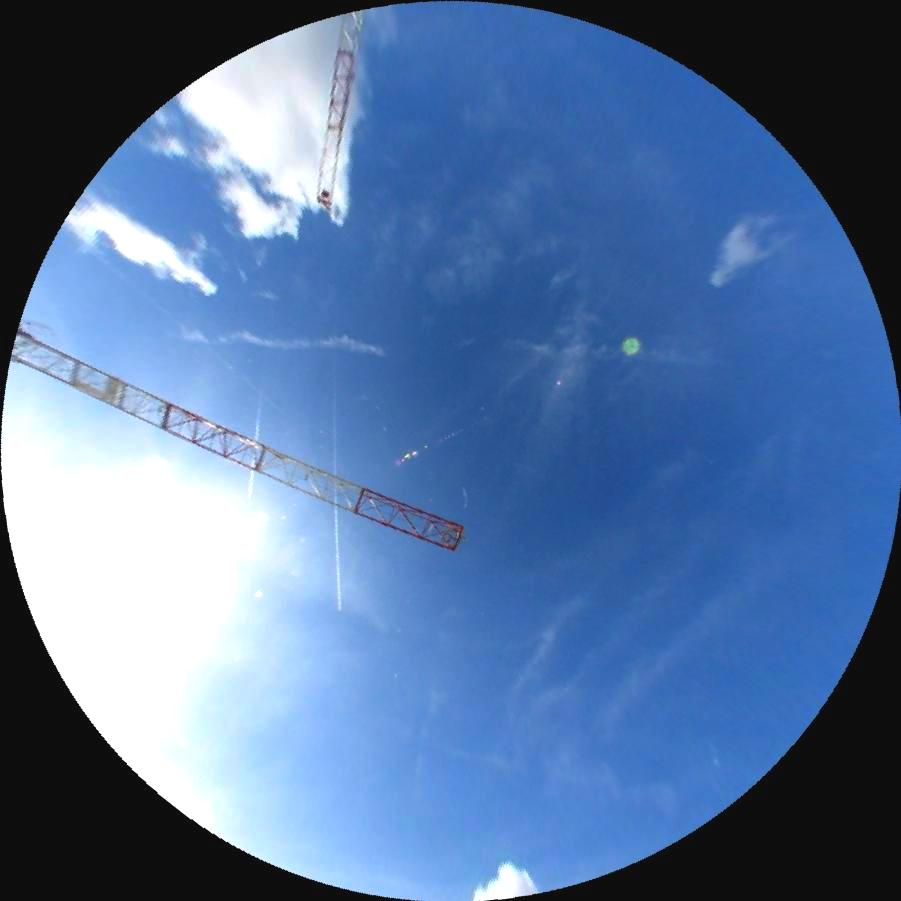contrail young: (329, 349, 341, 611), (245, 389, 265, 500)
sun: (0, 483, 226, 695)
